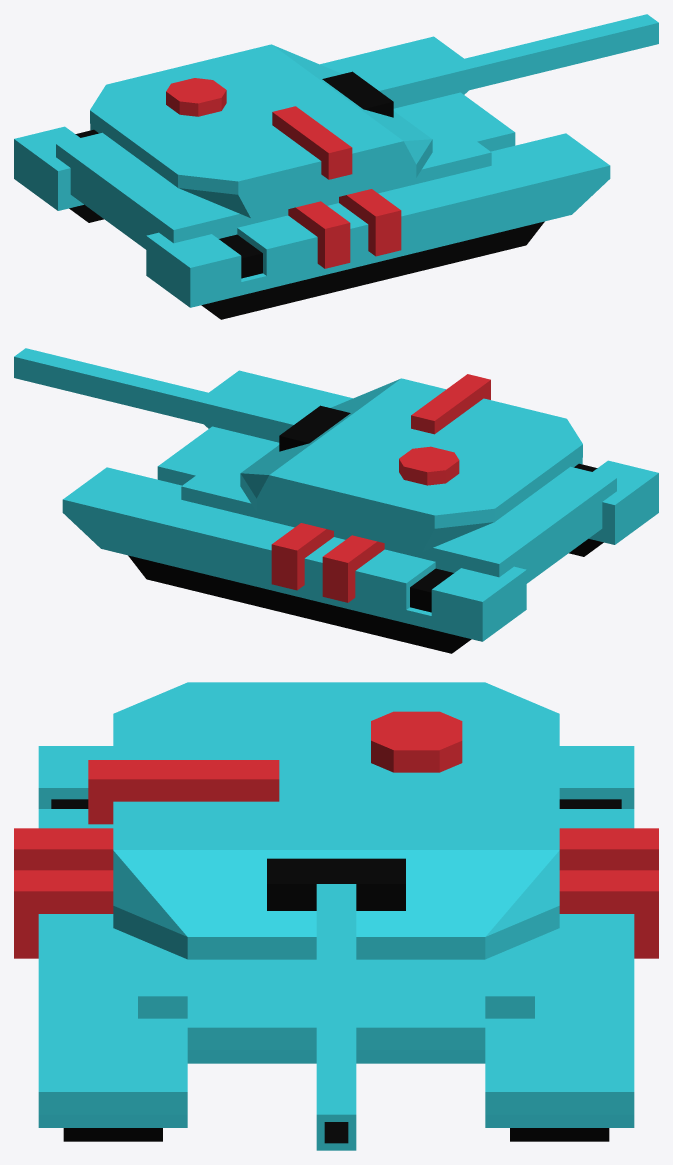
File: stick.glb
The picture shows the model from 3 angles, top to bottom: view 1: azimuth 30°, elevation 25°; view 2: azimuth 150°, elevation 25°; view 3: azimuth 270°, elevation 25°; orthographic projection. The views are drawn at different scales.
Parts seen in each view (by area): view 1: Hull, Turret, Barrel; view 2: Hull, Turret, Barrel; view 3: Hull, Turret, Barrel.
Part boxes in pixels (<box>): Hull: <box>14,36,610,319</box>; Turret: <box>90,44,432,218</box>; Barrel: <box>322,14,658,117</box>; Hull: <box>62,370,658,653</box>; Turret: <box>240,374,582,552</box>; Barrel: <box>14,348,350,451</box>; Hull: <box>14,746,658,1141</box>; Turret: <box>88,682,559,959</box>; Barrel: <box>267,858,405,1150</box>.
Bounding box in the file's own units: 2.17 × 0.5 × 1.3.
